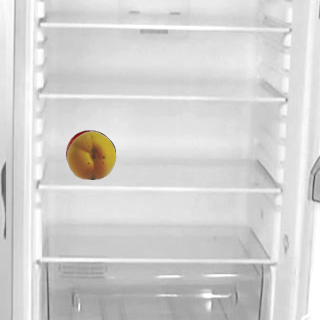Apple Braeburn: (65, 129, 115, 179)
Peach 2: (66, 129, 116, 179)
